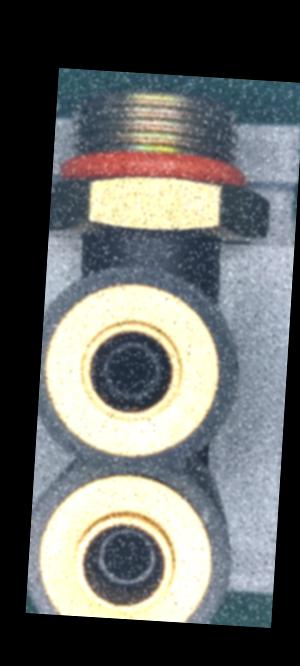joint line: (142, 243, 150, 265)
white mark: (140, 229, 149, 241)
